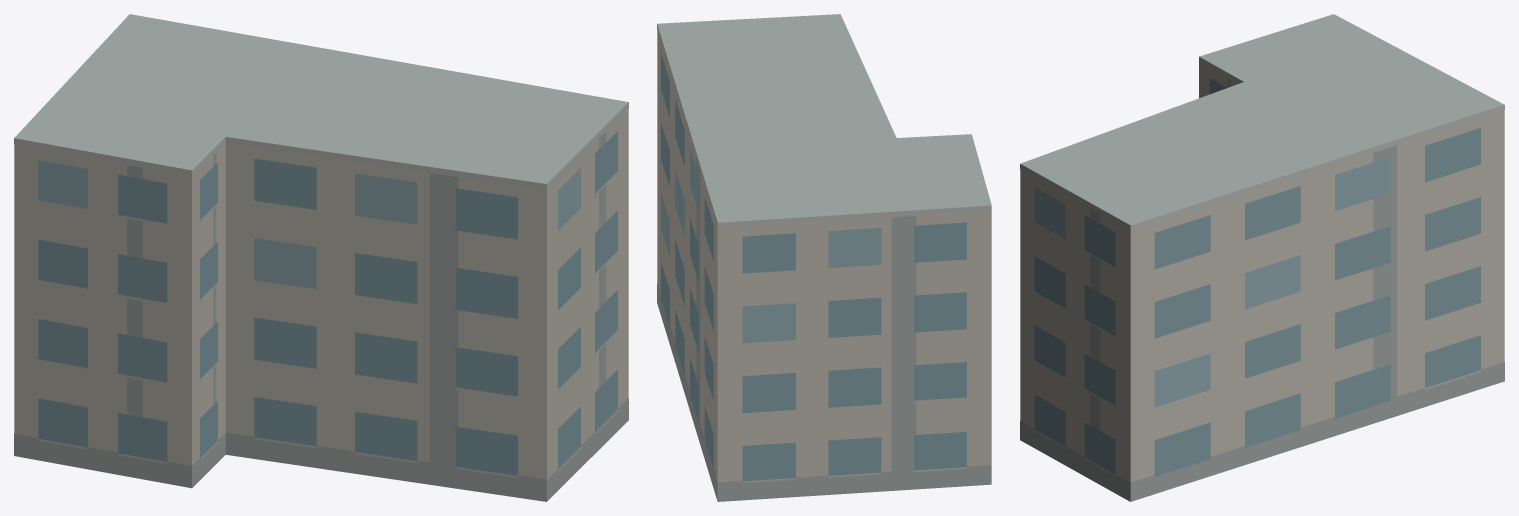
File: survey-upis-32783408.glb
3 renders of one model, left to right at view 1: azimuth 30°, elevation 25°; view 2: azimuth 150°, elevation 25°; view 3: azimuth 270°, elevation 25°, orthographic. The views are drawn at different scales.
Visible parts, largest first — view 1: survey-upis-32783408.tmp; view 2: survey-upis-32783408.tmp; view 3: survey-upis-32783408.tmp.
Boxes of the visible parts, bbox=[...] form: survey-upis-32783408.tmp: bbox=[14, 14, 628, 501]; survey-upis-32783408.tmp: bbox=[657, 14, 991, 501]; survey-upis-32783408.tmp: bbox=[1020, 14, 1504, 501].
Size of the model in its own units: 20.01 by 12.2 by 19.39.
